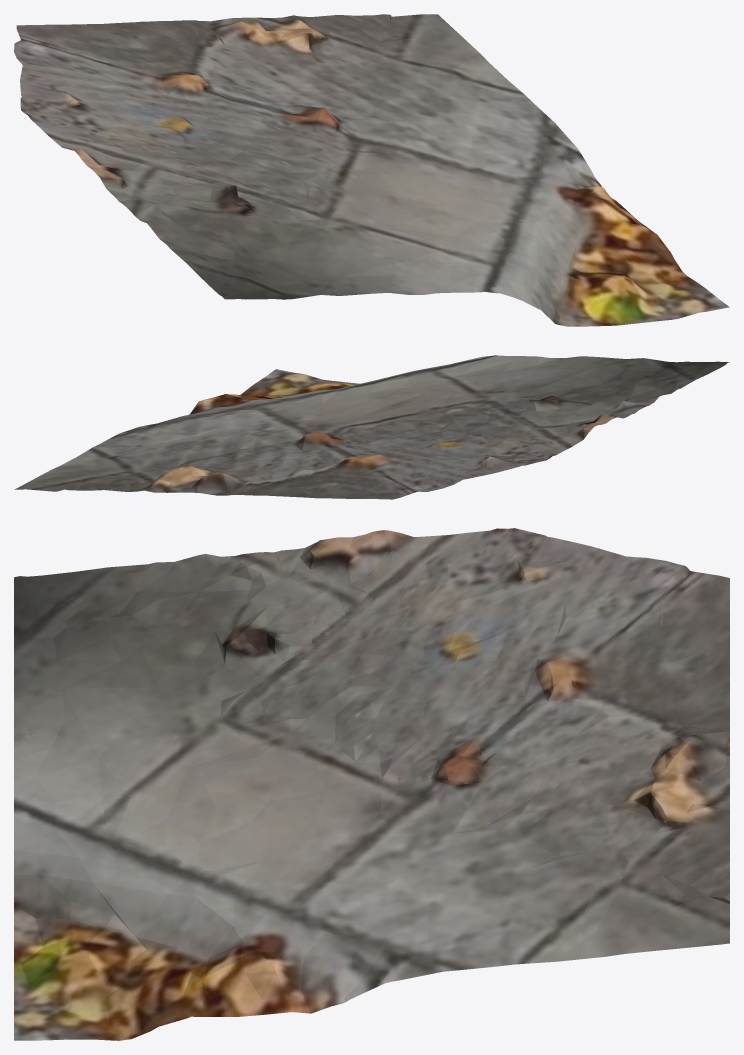
3 renders of one model, top to bottom at view 1: azimuth 30°, elevation 25°; view 2: azimuth 150°, elevation 25°; view 3: azimuth 270°, elevation 25°, orthographic. The views are drawn at different scales.
Size of the model in its own units: 0.8373 by 0.2713 by 0.8374.
Materials: 3 (3 with a texture image).
